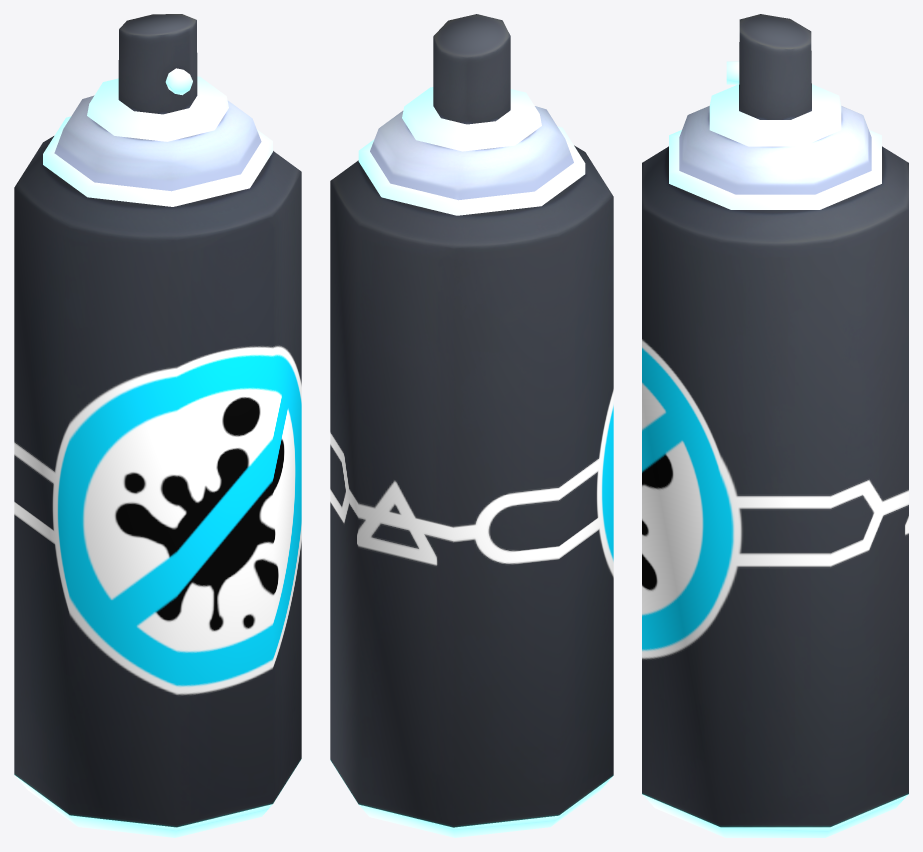
Rendered from obj_spray.gltf.
3 views of the same model, side by side, from view 1: azimuth 30°, elevation 25°; view 2: azimuth 150°, elevation 25°; view 3: azimuth 270°, elevation 25° (orthographic).
Visible parts, largest first — view 1: obj_spray; view 2: obj_spray; view 3: obj_spray.
Boxes of the visible parts, x1=… form: obj_spray: x1=14, y1=14, x2=301, y2=837; obj_spray: x1=330, y1=14, x2=613, y2=837; obj_spray: x1=642, y1=14, x2=908, y2=837.
Size of what is drawn, in the model's own units: 0.0855 by 0.2692 by 0.0855.
2 materials, 1 textured.
